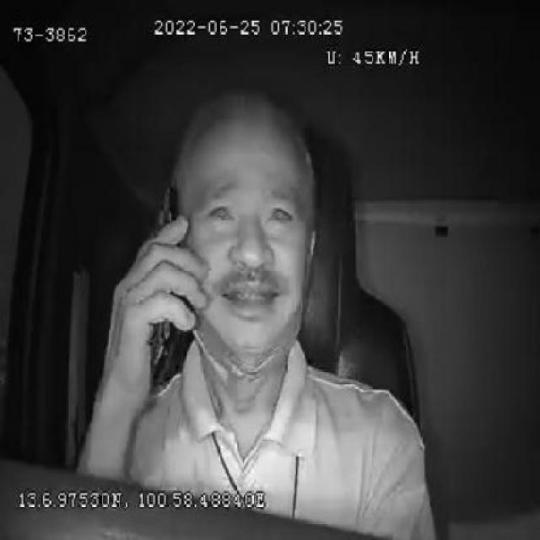phone: (142, 183, 189, 392)
